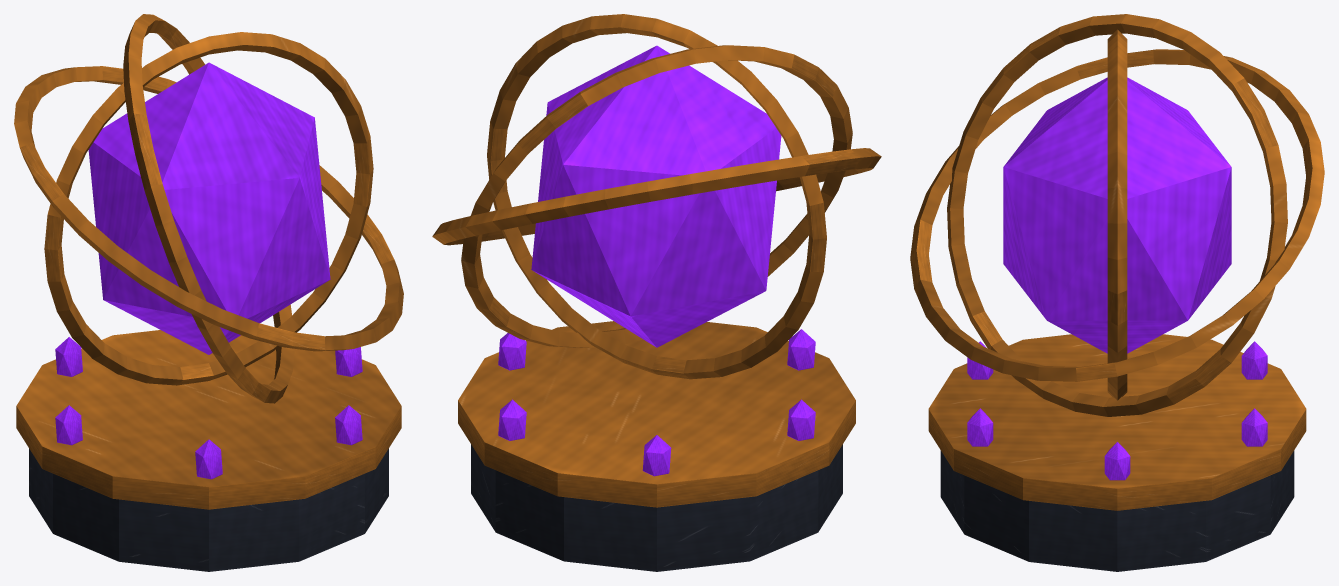
File: aura-orb.glb
3 renders of one model, left to right at view 1: azimuth 30°, elevation 25°; view 2: azimuth 150°, elevation 25°; view 3: azimuth 270°, elevation 25°, orthographic. The views are drawn at different scales.
Parts seen in each view (by area): view 1: Plinth rim, Floating arcane crystal, Stone plinth, Armillary ring 0, Armillary ring 2, Armillary ring 1, Plinth rune.004, Plinth rune.003, Plinth rune.002, Plinth rune.005, Plinth rune; view 2: Plinth rim, Floating arcane crystal, Stone plinth, Armillary ring 0, Armillary ring 1, Armillary ring 2, Plinth rune.003, Plinth rune.001, Plinth rune.004, Plinth rune.002, Plinth rune; view 3: Floating arcane crystal, Plinth rim, Stone plinth, Armillary ring 1, Armillary ring 2, Armillary ring 0, Plinth rune, Plinth rune.001, Plinth rune.002, Plinth rune.005.
Boxes of the visible parts, box(x1,y1,x2,y2) form: Plinth rim: box(16, 330, 401, 509); Floating arcane crystal: box(88, 62, 330, 354); Stone plinth: box(29, 448, 388, 571); Armillary ring 0: box(44, 32, 373, 385); Armillary ring 2: box(14, 66, 403, 351); Armillary ring 1: box(123, 14, 294, 403); Plinth rune.004: box(195, 439, 222, 479); Plinth rune.003: box(55, 405, 82, 445); Plinth rune.002: box(55, 337, 82, 376); Plinth rune.005: box(335, 405, 362, 445); Plinth rune: box(335, 347, 362, 376); Plinth rim: box(458, 321, 855, 507); Floating arcane crystal: box(531, 45, 781, 347); Stone plinth: box(471, 444, 842, 571); Armillary ring 0: box(487, 14, 826, 379); Armillary ring 1: box(461, 45, 852, 347); Armillary ring 2: box(432, 148, 881, 245); Plinth rune.003: box(787, 399, 815, 440); Plinth rune.001: box(498, 399, 526, 440); Plinth rune.004: box(787, 329, 815, 370); Plinth rune.002: box(642, 435, 671, 476); Plinth rune: box(498, 333, 526, 370); Floating arcane crystal: box(1003, 77, 1231, 353); Plinth rim: box(928, 334, 1306, 510); Stone plinth: box(940, 450, 1294, 571); Armillary ring 1: box(947, 14, 1287, 416); Armillary ring 2: box(910, 49, 1324, 381); Armillary ring 0: box(1107, 29, 1127, 400); Plinth rune: box(1104, 442, 1130, 480); Plinth rune.001: box(1241, 408, 1267, 446); Plinth rune.002: box(1241, 341, 1267, 379); Plinth rune.005: box(967, 408, 993, 446).
Size of the model in its own units: 0.6592 by 0.816 by 0.6802.
Materials: 1 (1 with a texture image).
